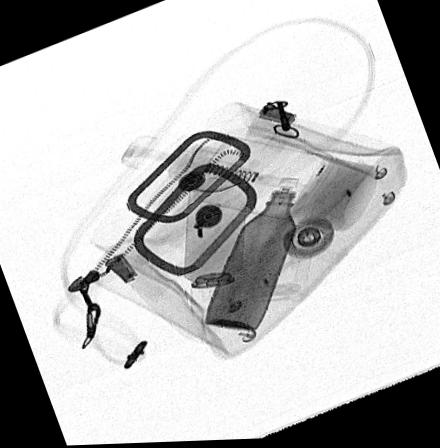Sprayer: (183, 177, 246, 311)
